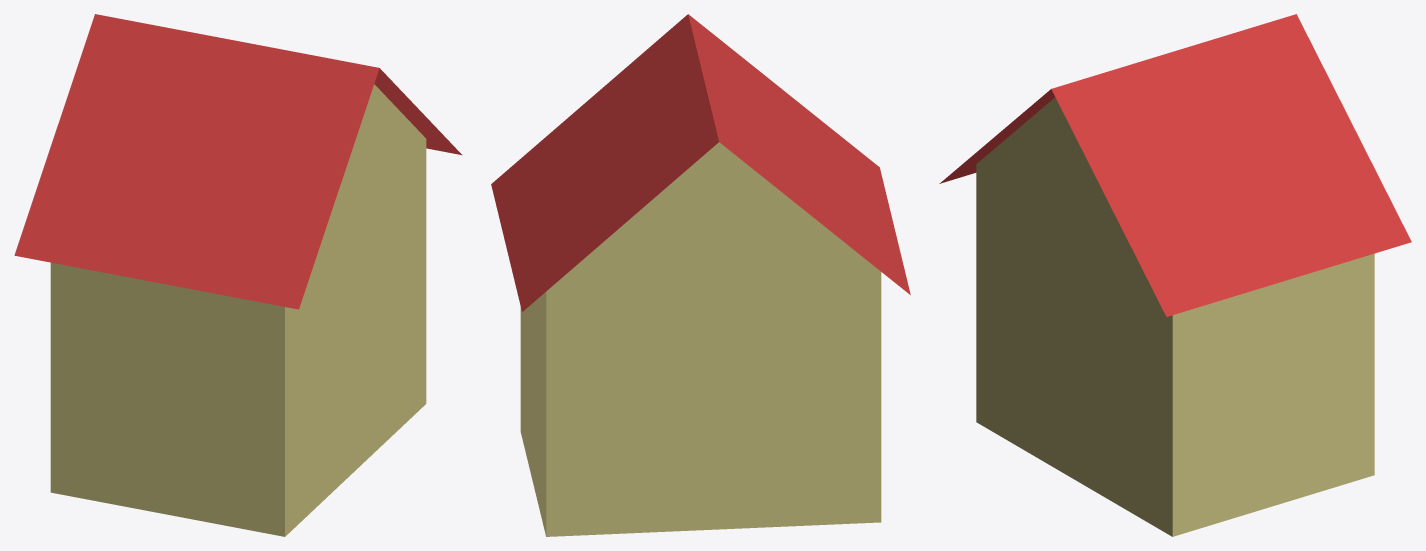
3 views of the same model, side by side, from view 1: azimuth 30°, elevation 25°; view 2: azimuth 150°, elevation 25°; view 3: azimuth 270°, elevation 25° (orthographic). The views are drawn at different scales.
Size of the model in its own units: 13.81 by 13.27 by 12.27.
